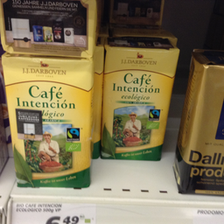coffee: (1, 52, 93, 190), (100, 34, 179, 160), (172, 47, 224, 193)
